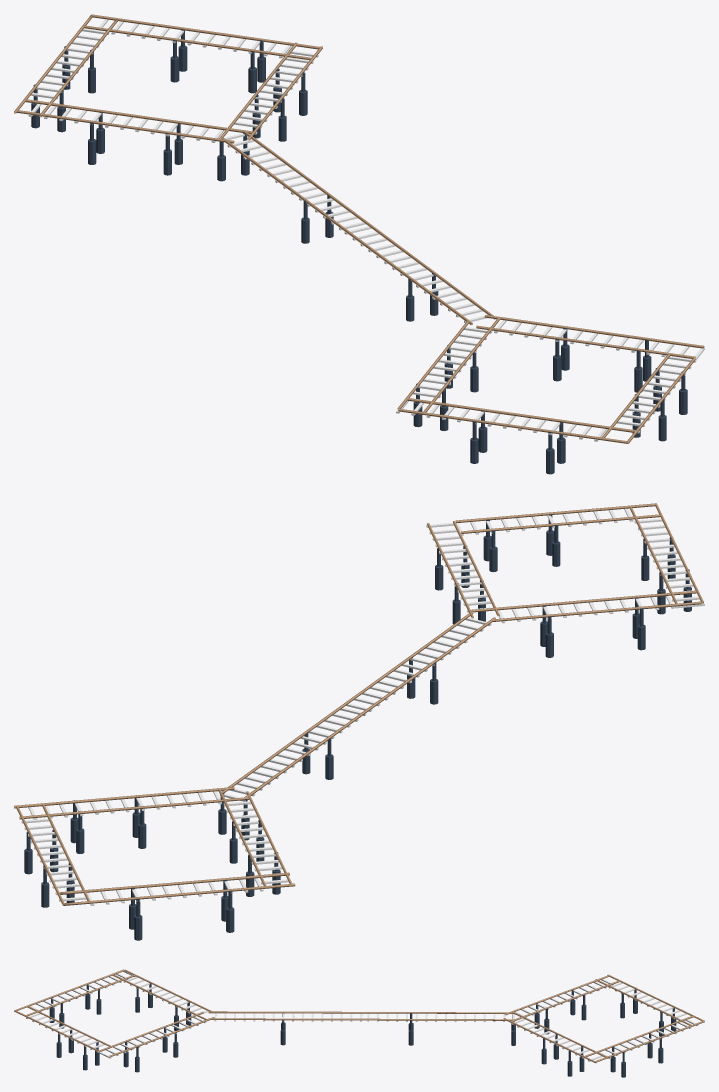
Rendered from RollerCoaster_016.fbx.
3 views of the same model, one above another, from view 1: azimuth 30°, elevation 25°; view 2: azimuth 150°, elevation 25°; view 3: azimuth 270°, elevation 25° (orthographic). The views are drawn at different scales.
Parts seen in each view (by area): view 1: Columns.040, Path.078, Path.087, Path.088, Path.077, RailStep.078, RailStep.079, RailStep.085, Path.080, Path.079, RailStep.074, RailStep.073 (+9 smaller); view 2: Columns.040, Path.085, Path.086, Path.074, RailStep.079, Path.075, RailStep.078, RailStep.076, RailStep.077, RailStep.086, RailStep.087, Path.080 (+5 smaller); view 3: Columns.040, Path.080, Path.079, Path.087, Path.078, Path.088, Path.077, Path.085, Path.086, Path.074, Path.075, RailStep.076 (+9 smaller).
Boxes of the visible parts, x1,y1,x2,y2 form: Columns.040: (31, 29, 687, 474); Path.078: (398, 398, 636, 443); Path.087: (83, 14, 321, 60); Path.088: (15, 99, 253, 143); Path.077: (476, 315, 704, 358); RailStep.078: (224, 133, 365, 230); RailStep.079: (344, 226, 487, 322); RailStep.085: (231, 51, 318, 134); Path.080: (345, 224, 496, 325); Path.079: (221, 131, 369, 231); RailStep.074: (614, 356, 696, 433); RailStep.073: (410, 327, 492, 401); Columns.040: (24, 514, 691, 940); Path.085: (59, 872, 295, 905); Path.086: (14, 787, 249, 819); Path.074: (471, 590, 701, 621); RailStep.079: (346, 617, 491, 711); Path.075: (455, 503, 660, 533); RailStep.078: (220, 707, 366, 801); RailStep.076: (426, 522, 493, 612); RailStep.077: (634, 518, 704, 608); RailStep.086: (21, 818, 86, 901); RailStep.087: (223, 801, 288, 884); Path.080: (346, 612, 495, 709); Columns.040: (49, 982, 676, 1077); Path.080: (208, 1011, 361, 1020); Path.079: (361, 1012, 514, 1020); Path.087: (585, 1015, 704, 1062); Path.078: (15, 969, 135, 1015); Path.088: (504, 975, 619, 1021); Path.077: (98, 1012, 214, 1057); Path.085: (595, 974, 704, 1025); Path.086: (503, 1011, 608, 1063); Path.074: (112, 969, 211, 1019); Path.075: (14, 1006, 110, 1051); RailStep.076: (98, 1016, 206, 1058).
Bounding box in the file's own units: 2883 × 366 × 9012.
